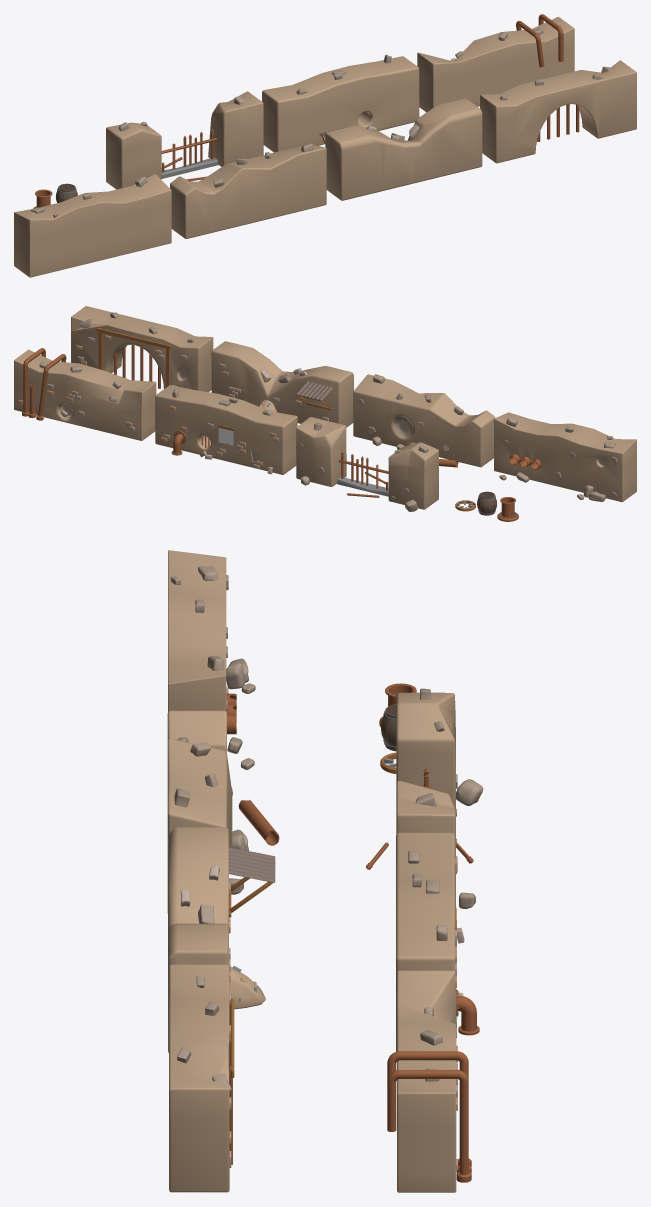
The model's file is WallHorizont.fbx.
The picture shows the model from 3 angles, top to bottom: view 1: azimuth 30°, elevation 25°; view 2: azimuth 150°, elevation 25°; view 3: azimuth 270°, elevation 25°; orthographic projection. The views are drawn at different scales.
Visible parts, largest first — view 1: Cube.006, Cube.001, Cube, Cube.004, Cube.002, Cube.003, Cube.005; view 2: Cube.006, Cube, Cube.003, Cube.004, Cube.002, Cube.001, Cube.005, Cylinder.001, Cylinder.002; view 3: Cube.003, Cube.002, Cube.001, Cube.006, Cube.005, Cube, Cube.004.
Part boxes in pixels (x1,y1,x2,y2): Cube.006: [14, 174, 171, 277]; Cube.001: [319, 98, 482, 200]; Cube: [262, 54, 419, 152]; Cube.004: [170, 143, 326, 238]; Cube.002: [480, 60, 636, 163]; Cube.003: [417, 14, 574, 112]; Cube.005: [106, 91, 263, 189]; Cube.006: [494, 412, 636, 502]; Cube: [155, 385, 297, 474]; Cube.003: [14, 348, 156, 440]; Cube.004: [353, 374, 495, 467]; Cube.002: [71, 306, 213, 391]; Cube.001: [211, 341, 353, 427]; Cube.005: [296, 417, 438, 511]; Cylinder.001: [477, 491, 496, 515]; Cylinder.002: [497, 497, 518, 521]; Cube.003: [387, 970, 471, 1192]; Cube.002: [169, 964, 234, 1192]; Cube.001: [168, 827, 275, 1052]; Cube.006: [168, 550, 255, 769]; Cube.005: [366, 688, 483, 908]; Cube: [396, 832, 479, 1051]; Cube.004: [167, 710, 279, 913].
Size of the model in its own units: 5111 by 510 by 1266.
